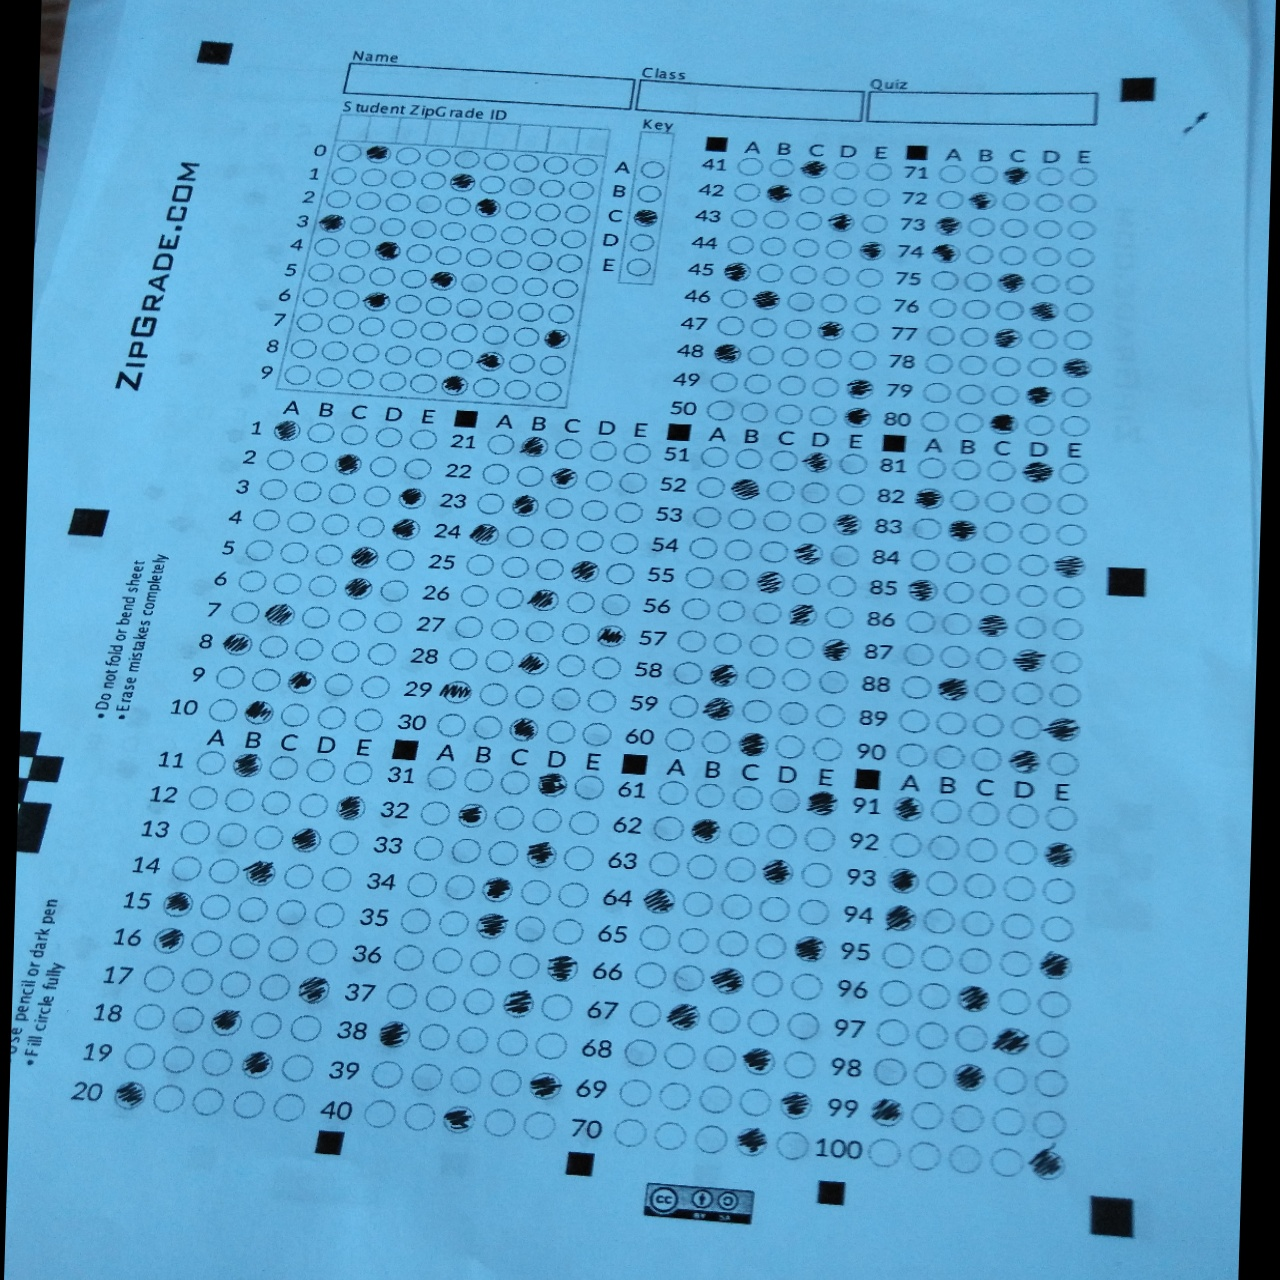not-c: (1029, 1108, 1069, 1141), (948, 1101, 987, 1133), (787, 972, 824, 1003), (966, 799, 1003, 831), (990, 1065, 1029, 1096), (910, 1060, 948, 1090), (945, 1144, 983, 1175), (656, 1082, 693, 1114), (680, 888, 716, 920), (692, 781, 728, 812), (692, 1124, 729, 1155), (772, 1130, 810, 1160), (783, 1010, 821, 1041), (645, 849, 682, 879), (654, 778, 692, 809), (1039, 914, 1076, 945), (918, 944, 955, 974), (1032, 1068, 1069, 1098), (865, 1137, 903, 1167), (905, 1141, 942, 1171), (930, 795, 964, 828), (497, 767, 532, 798), (685, 849, 720, 880), (1044, 803, 1080, 835), (914, 1019, 949, 1050), (736, 1088, 772, 1118), (626, 1000, 662, 1030), (670, 964, 707, 994), (662, 1041, 699, 1071), (745, 1008, 782, 1039), (753, 932, 789, 962), (714, 928, 750, 959), (795, 897, 831, 927), (649, 813, 686, 844), (729, 783, 765, 813), (886, 830, 922, 860), (961, 870, 998, 900), (964, 836, 1000, 866), (1041, 874, 1077, 905), (1000, 911, 1036, 941), (959, 907, 995, 938), (881, 940, 918, 971), (995, 986, 1032, 1016), (956, 946, 993, 976), (988, 1148, 1024, 1178), (651, 1121, 688, 1150), (701, 1043, 738, 1073), (781, 1050, 818, 1080), (749, 969, 787, 999), (877, 978, 914, 1007), (871, 1057, 908, 1087), (908, 1099, 946, 1129), (417, 799, 452, 830), (551, 915, 586, 946), (390, 942, 425, 973), (383, 981, 418, 1012), (696, 1084, 731, 1115), (676, 926, 712, 956), (719, 892, 754, 922), (764, 821, 799, 851), (927, 831, 962, 862), (1005, 802, 1040, 832), (1005, 837, 1040, 867), (1003, 872, 1039, 903), (915, 981, 951, 1012), (998, 947, 1033, 978), (631, 961, 667, 990), (707, 1005, 743, 1034), (756, 894, 792, 924), (803, 826, 839, 856), (724, 818, 761, 847), (722, 855, 758, 884), (1036, 988, 1073, 1017), (874, 1017, 911, 1047), (989, 1107, 1026, 1136), (274, 897, 308, 927), (425, 763, 459, 794), (561, 843, 595, 873), (556, 878, 590, 908), (491, 803, 525, 833), (442, 872, 476, 903), (171, 1005, 205, 1035), (152, 1083, 186, 1114), (191, 1087, 225, 1117), (257, 973, 291, 1003), (280, 1051, 314, 1082), (232, 1089, 266, 1119), (368, 1060, 402, 1090), (540, 992, 574, 1022), (461, 987, 495, 1017), (456, 1024, 490, 1055), (922, 904, 956, 934), (311, 900, 346, 930), (513, 914, 549, 944), (436, 908, 471, 938), (189, 928, 224, 958), (179, 968, 215, 998), (265, 934, 300, 964), (304, 937, 339, 966), (272, 1092, 307, 1122), (362, 1099, 397, 1129), (447, 1065, 482, 1095), (520, 1111, 556, 1141), (468, 948, 503, 978), (613, 1118, 648, 1148), (619, 1077, 654, 1107), (622, 1039, 658, 1068), (799, 860, 835, 890), (767, 787, 802, 816), (924, 867, 959, 897), (952, 1022, 987, 1051), (1034, 1029, 1069, 1058), (931, 743, 966, 772), (896, 707, 931, 736), (1048, 681, 1083, 710), (810, 734, 845, 763), (667, 692, 702, 721), (782, 632, 817, 661), (697, 728, 734, 756), (567, 809, 600, 839), (290, 1013, 322, 1043), (409, 1062, 442, 1092), (403, 1101, 436, 1131), (234, 896, 268, 925), (399, 907, 433, 937), (406, 871, 440, 900), (518, 878, 552, 907), (486, 839, 520, 869), (449, 836, 483, 865), (142, 964, 176, 993), (132, 1002, 166, 1032), (161, 1043, 195, 1073), (123, 1042, 157, 1071), (200, 1048, 234, 1077), (248, 1010, 282, 1040), (218, 969, 252, 999), (229, 932, 263, 961), (482, 1107, 516, 1136), (535, 1032, 568, 1061), (506, 951, 540, 980), (424, 983, 458, 1013), (495, 1029, 529, 1058), (636, 922, 670, 952), (975, 644, 1009, 673), (670, 660, 704, 689), (908, 545, 942, 574), (894, 742, 930, 770), (934, 710, 969, 738), (900, 641, 935, 669), (938, 642, 973, 670), (1009, 713, 1044, 741), (1009, 679, 1044, 707), (1050, 615, 1085, 644), (771, 731, 806, 760), (673, 628, 708, 656), (710, 629, 745, 658), (747, 632, 782, 660), (903, 608, 938, 636), (572, 772, 605, 802), (198, 892, 231, 921), (490, 1069, 523, 1098), (430, 946, 463, 975), (418, 1022, 451, 1051), (411, 835, 445, 863), (461, 765, 495, 794), (530, 806, 564, 835), (899, 672, 933, 700), (972, 710, 1006, 738), (1047, 750, 1081, 778), (1049, 648, 1083, 676), (738, 697, 772, 726), (678, 595, 713, 622), (822, 604, 857, 631), (195, 750, 229, 777), (304, 757, 338, 784), (969, 745, 1003, 772), (973, 678, 1007, 704), (663, 726, 697, 753), (779, 666, 813, 693), (776, 700, 810, 727), (743, 665, 777, 692), (750, 600, 784, 627), (939, 611, 974, 636), (1015, 583, 1050, 608), (315, 704, 348, 731), (488, 617, 520, 644), (223, 787, 256, 813), (215, 821, 247, 847), (320, 866, 353, 893), (817, 668, 850, 695), (715, 599, 748, 626), (447, 646, 481, 672), (813, 702, 847, 728), (686, 535, 720, 560), (944, 549, 978, 574), (978, 550, 1012, 576), (1017, 522, 1051, 547), (947, 489, 981, 515), (1056, 461, 1090, 486), (1054, 522, 1088, 547), (796, 509, 830, 535), (833, 481, 867, 506), (768, 448, 802, 474), (733, 445, 767, 471), (1013, 617, 1048, 641), (981, 520, 1016, 545), (798, 481, 833, 505), (278, 702, 309, 729), (435, 712, 467, 738), (585, 688, 617, 715), (458, 583, 490, 610), (564, 588, 595, 615), (341, 760, 373, 787), (352, 706, 384, 731), (206, 697, 239, 723), (470, 714, 503, 740), (543, 719, 576, 744), (550, 686, 583, 712), (554, 653, 587, 679), (523, 619, 556, 645), (452, 614, 485, 640), (492, 586, 525, 612), (598, 591, 631, 617), (604, 560, 636, 586), (535, 557, 567, 583), (298, 792, 331, 818), (170, 856, 203, 881), (207, 859, 240, 885), (252, 824, 285, 850), (327, 830, 360, 856), (911, 516, 944, 542), (824, 574, 858, 599), (719, 566, 753, 591), (683, 564, 717, 588), (721, 537, 755, 561), (828, 544, 862, 568), (1051, 586, 1085, 611), (978, 583, 1012, 607), (942, 580, 976, 605), (983, 490, 1017, 515), (949, 456, 983, 481), (1055, 491, 1089, 516), (1017, 491, 1051, 516), (761, 508, 795, 532), (724, 506, 758, 531), (689, 505, 723, 530), (694, 476, 728, 501), (764, 479, 798, 504), (697, 444, 731, 469), (558, 621, 588, 648), (483, 648, 515, 674), (267, 755, 299, 781), (261, 790, 293, 816), (188, 785, 219, 811), (284, 863, 315, 888), (372, 610, 404, 634), (477, 683, 510, 708), (543, 496, 576, 520), (757, 539, 790, 564), (1017, 552, 1050, 577), (836, 451, 869, 476), (1060, 384, 1092, 409), (998, 244, 1030, 268), (1033, 190, 1065, 215), (789, 572, 823, 595), (915, 457, 949, 481), (983, 458, 1017, 482), (215, 665, 245, 690), (324, 672, 354, 697), (581, 722, 612, 748), (574, 529, 605, 554), (613, 501, 644, 526), (588, 440, 619, 465), (181, 819, 211, 845), (251, 508, 282, 532), (244, 537, 275, 561), (313, 543, 345, 567), (306, 574, 338, 599), (236, 570, 267, 594), (336, 607, 368, 632), (293, 636, 325, 661), (258, 634, 290, 659), (515, 685, 546, 709), (591, 656, 622, 681), (816, 292, 847, 316), (959, 324, 990, 348), (1024, 411, 1056, 436), (1032, 272, 1063, 297), (1032, 244, 1063, 268), (998, 215, 1029, 239), (934, 188, 966, 212), (990, 354, 1023, 377), (727, 206, 760, 230), (795, 184, 828, 207), (301, 605, 332, 629), (251, 667, 281, 692), (499, 554, 530, 579), (515, 463, 545, 488), (584, 469, 614, 493), (622, 441, 653, 465), (813, 347, 844, 372), (777, 374, 808, 399), (783, 316, 813, 341), (1058, 413, 1089, 437), (994, 298, 1024, 322), (1064, 217, 1095, 241), (1001, 189, 1032, 213), (937, 161, 967, 185), (824, 238, 855, 263), (758, 234, 789, 259), (765, 155, 796, 179), (265, 448, 297, 471), (384, 549, 416, 572), (380, 579, 411, 602), (271, 572, 302, 595), (366, 642, 397, 666), (359, 675, 390, 699), (463, 553, 495, 577), (618, 471, 649, 495), (484, 433, 516, 456), (704, 399, 736, 422), (806, 404, 838, 428), (849, 321, 880, 345), (850, 293, 881, 316), (822, 265, 853, 288), (788, 263, 819, 286), (755, 260, 787, 284), (924, 353, 955, 376), (956, 354, 988, 377), (990, 384, 1022, 408), (1027, 327, 1058, 350), (964, 241, 995, 265), (966, 216, 998, 239), (1067, 191, 1098, 215), (1035, 164, 1067, 188), (726, 233, 757, 257), (734, 155, 765, 178), (481, 462, 510, 486), (787, 290, 816, 314), (930, 270, 959, 294), (1064, 271, 1094, 295), (305, 421, 335, 444), (300, 450, 331, 474), (257, 477, 287, 501), (327, 482, 358, 505), (331, 640, 361, 663), (504, 525, 535, 549), (538, 527, 568, 551), (608, 531, 639, 554), (579, 499, 610, 523), (475, 492, 505, 516), (553, 437, 584, 461), (738, 401, 769, 424), (772, 402, 803, 425), (811, 376, 842, 400), (779, 345, 810, 368), (719, 286, 749, 309), (853, 266, 884, 290), (920, 409, 951, 433), (953, 411, 983, 435), (920, 382, 951, 406), (926, 325, 956, 348), (927, 297, 958, 320), (960, 297, 990, 320), (1063, 301, 1094, 325), (1069, 165, 1099, 189), (969, 163, 1000, 186), (792, 236, 823, 259), (730, 181, 761, 204), (338, 424, 369, 447), (367, 455, 399, 477), (230, 601, 261, 624), (744, 343, 776, 366), (749, 316, 781, 339), (714, 315, 745, 338), (954, 383, 986, 406), (1026, 356, 1057, 379), (1061, 329, 1092, 352), (829, 159, 862, 181), (964, 270, 993, 293), (1032, 216, 1061, 239), (373, 425, 403, 448), (408, 428, 438, 450), (292, 479, 322, 502), (361, 485, 392, 508), (286, 510, 316, 532), (279, 542, 309, 564), (847, 350, 878, 373), (742, 372, 772, 394), (1065, 246, 1096, 268), (865, 161, 896, 183), (707, 372, 738, 393), (828, 186, 859, 207), (409, 217, 438, 239), (524, 250, 553, 272), (418, 319, 448, 341), (502, 379, 531, 401), (356, 515, 386, 537), (442, 195, 472, 216), (468, 222, 498, 243), (554, 252, 585, 273), (388, 318, 418, 339), (320, 515, 350, 536), (859, 213, 890, 234), (795, 209, 825, 230), (761, 209, 791, 230), (452, 148, 481, 170), (464, 246, 492, 268), (551, 278, 579, 300), (312, 237, 340, 259), (455, 297, 483, 319), (315, 366, 343, 388), (404, 458, 433, 481), (482, 151, 511, 172), (512, 152, 542, 173), (536, 179, 565, 200), (388, 168, 417, 189), (359, 166, 388, 188), (414, 193, 443, 215), (563, 204, 592, 225), (638, 159, 667, 181), (377, 217, 407, 238), (331, 288, 360, 309), (434, 245, 463, 266), (490, 274, 519, 295), (459, 273, 489, 294), (301, 287, 331, 308), (394, 294, 423, 315), (484, 299, 513, 320), (515, 302, 544, 324), (508, 353, 537, 374), (481, 325, 510, 346), (320, 341, 349, 362), (444, 350, 474, 372), (542, 155, 570, 176), (572, 156, 600, 177), (478, 173, 506, 195), (329, 165, 358, 186), (324, 188, 352, 209), (354, 190, 382, 211), (383, 192, 411, 213), (504, 200, 532, 222), (533, 200, 561, 222), (635, 184, 663, 205), (499, 225, 527, 246), (438, 220, 467, 241), (343, 238, 372, 259), (336, 263, 365, 284), (369, 266, 397, 287), (400, 268, 428, 290), (404, 243, 433, 264), (496, 248, 524, 270), (520, 275, 549, 297), (547, 304, 576, 325), (512, 326, 540, 347), (358, 316, 386, 338), (295, 311, 324, 332), (383, 345, 411, 366), (414, 346, 442, 367), (538, 354, 566, 375), (535, 381, 563, 402), (472, 377, 501, 399), (346, 368, 374, 389), (423, 147, 452, 166), (566, 181, 595, 200), (628, 233, 658, 253), (529, 227, 558, 247), (306, 263, 335, 282), (450, 324, 479, 343), (409, 374, 438, 394), (377, 372, 407, 392), (282, 365, 312, 384), (860, 188, 890, 207), (335, 143, 363, 163), (394, 147, 422, 166), (508, 176, 536, 196), (420, 171, 448, 191), (624, 257, 652, 277), (559, 229, 587, 248), (349, 215, 377, 234), (424, 297, 452, 316), (327, 314, 355, 334), (290, 338, 318, 358), (350, 343, 379, 363)
taken-c: (1027, 1149, 1069, 1183), (993, 1024, 1032, 1058), (955, 983, 995, 1016), (1035, 951, 1076, 981), (733, 1124, 770, 1157), (869, 1097, 905, 1130), (951, 1062, 987, 1095), (110, 1080, 148, 1111), (440, 1103, 478, 1133), (522, 840, 560, 871), (881, 903, 920, 933), (884, 864, 922, 894), (1005, 747, 1043, 777), (1046, 715, 1084, 745), (207, 1008, 245, 1039), (375, 1020, 413, 1050), (471, 911, 509, 941), (452, 802, 490, 832), (1010, 644, 1048, 674), (544, 954, 583, 983), (888, 795, 927, 824), (935, 675, 974, 704), (478, 876, 515, 906), (238, 1050, 275, 1080), (533, 772, 571, 802), (504, 716, 542, 745), (1042, 839, 1080, 869), (295, 976, 332, 1006), (527, 1070, 564, 1099), (501, 989, 537, 1019), (777, 1091, 813, 1121), (976, 612, 1013, 641), (760, 858, 797, 886), (667, 1003, 704, 1032), (792, 934, 828, 964), (243, 860, 279, 888), (641, 887, 678, 915), (741, 1047, 777, 1075), (159, 891, 195, 919), (151, 926, 186, 954), (805, 789, 840, 817), (689, 817, 724, 845), (905, 578, 941, 605), (1053, 553, 1089, 580), (737, 731, 771, 760), (263, 602, 298, 629), (285, 669, 320, 696), (241, 699, 277, 726), (712, 968, 747, 995), (946, 519, 981, 546), (913, 485, 948, 512), (594, 622, 627, 651), (222, 631, 256, 658), (333, 794, 367, 821), (290, 828, 324, 855), (440, 678, 474, 704), (515, 651, 549, 678), (527, 587, 561, 614), (468, 522, 502, 549), (821, 636, 855, 663), (568, 558, 601, 585), (508, 493, 540, 520), (516, 433, 549, 459), (231, 753, 265, 778), (787, 602, 821, 628), (703, 696, 737, 722), (1021, 461, 1055, 486), (987, 411, 1021, 437), (1023, 383, 1057, 409), (995, 271, 1029, 297), (753, 570, 788, 594), (1027, 299, 1062, 324), (546, 467, 579, 492), (840, 406, 873, 431), (930, 241, 962, 267), (967, 188, 1000, 213), (708, 663, 742, 688), (1060, 356, 1094, 381), (990, 326, 1024, 350), (931, 213, 965, 238), (1000, 164, 1034, 189), (342, 576, 374, 601), (813, 316, 845, 342), (389, 517, 422, 542), (792, 542, 825, 566), (855, 239, 888, 263), (801, 451, 835, 475), (798, 156, 830, 181), (762, 182, 794, 206), (824, 210, 856, 234), (719, 260, 751, 284), (272, 418, 302, 443), (349, 545, 380, 570), (730, 476, 761, 501), (712, 341, 743, 365), (843, 376, 874, 400), (831, 513, 864, 536), (396, 486, 427, 510), (475, 350, 506, 373), (629, 207, 661, 230), (332, 452, 363, 475), (318, 212, 348, 234), (373, 240, 403, 263), (429, 270, 459, 292), (542, 328, 572, 350), (440, 373, 470, 395), (751, 288, 782, 311), (362, 292, 393, 313), (365, 143, 394, 164), (474, 197, 503, 218), (447, 172, 477, 192)
